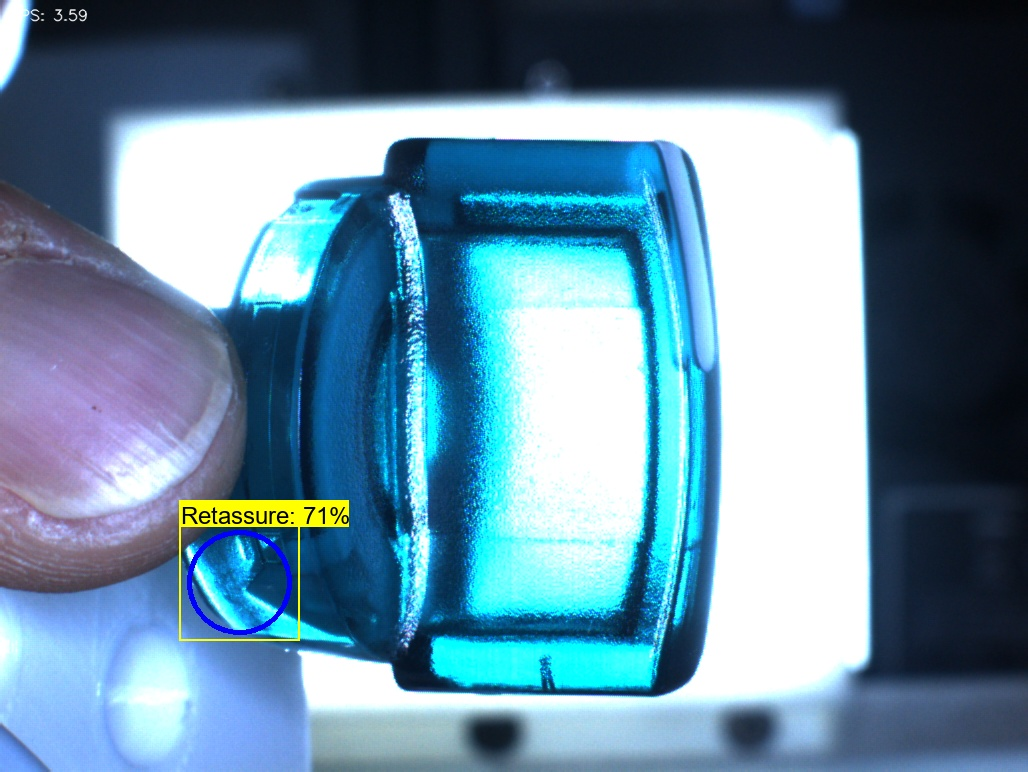Bulle: (511, 630, 599, 726)
